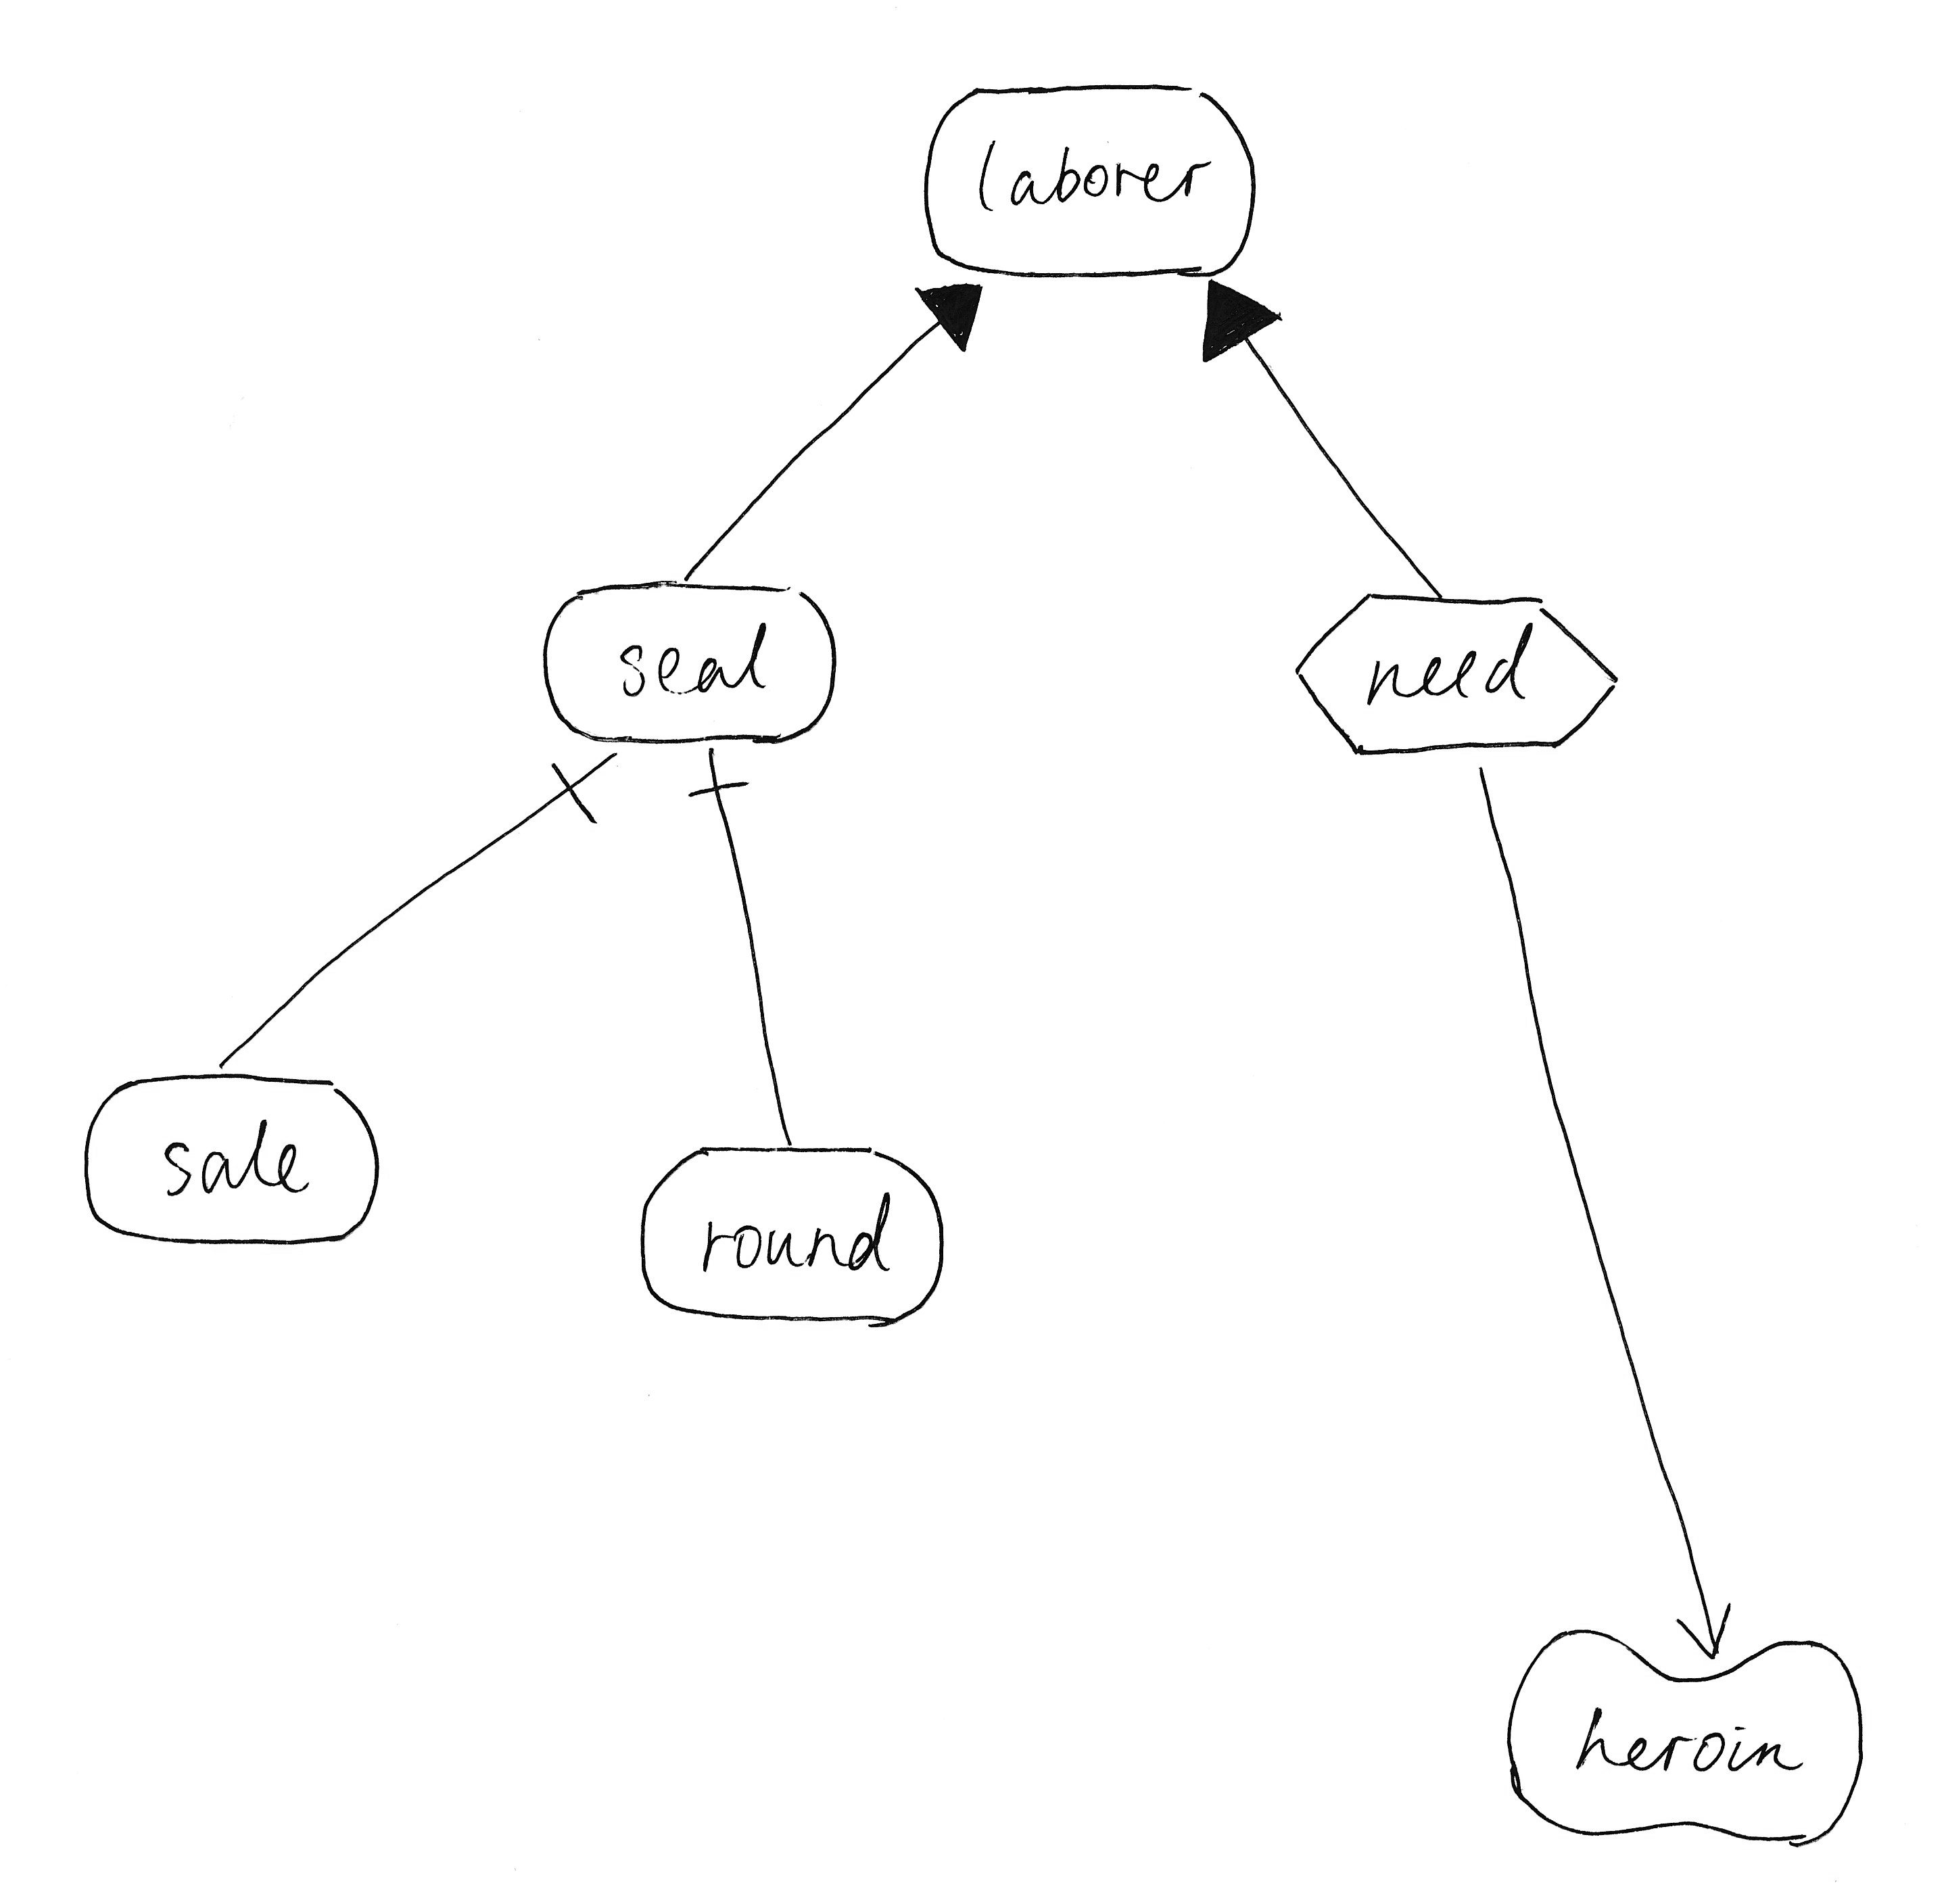and: (530, 738, 628, 846), (671, 746, 765, 825)
arrow: (1658, 1590, 1749, 1672)
goal: (901, 70, 1278, 293), (619, 1123, 964, 1344), (70, 1051, 406, 1262), (525, 563, 860, 760)
or: (1187, 269, 1292, 378), (898, 272, 994, 364)
quality: (1489, 1608, 1878, 1862)
task: (1281, 577, 1634, 769)
